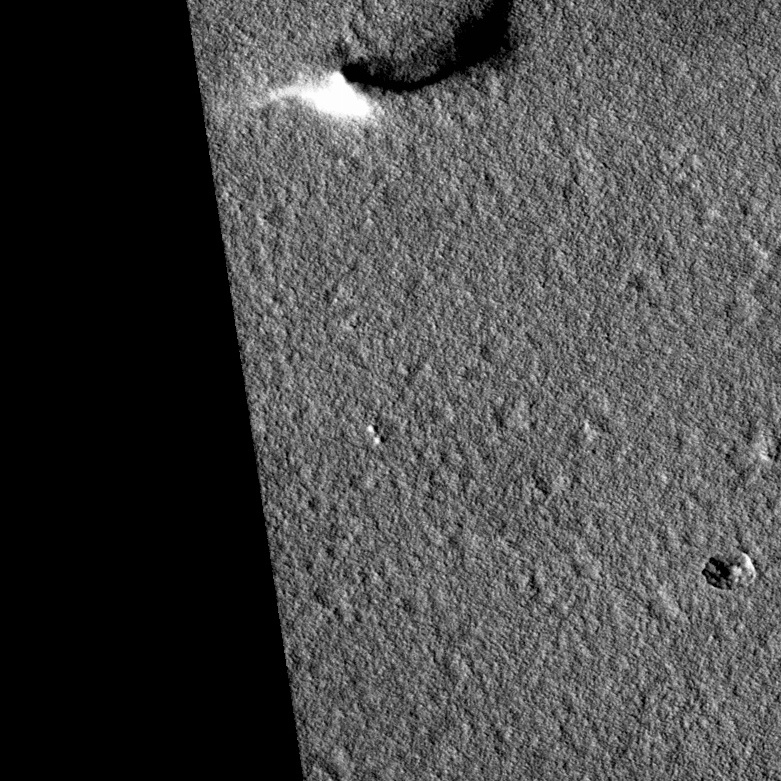dust_devil: (248, 1, 526, 128)
